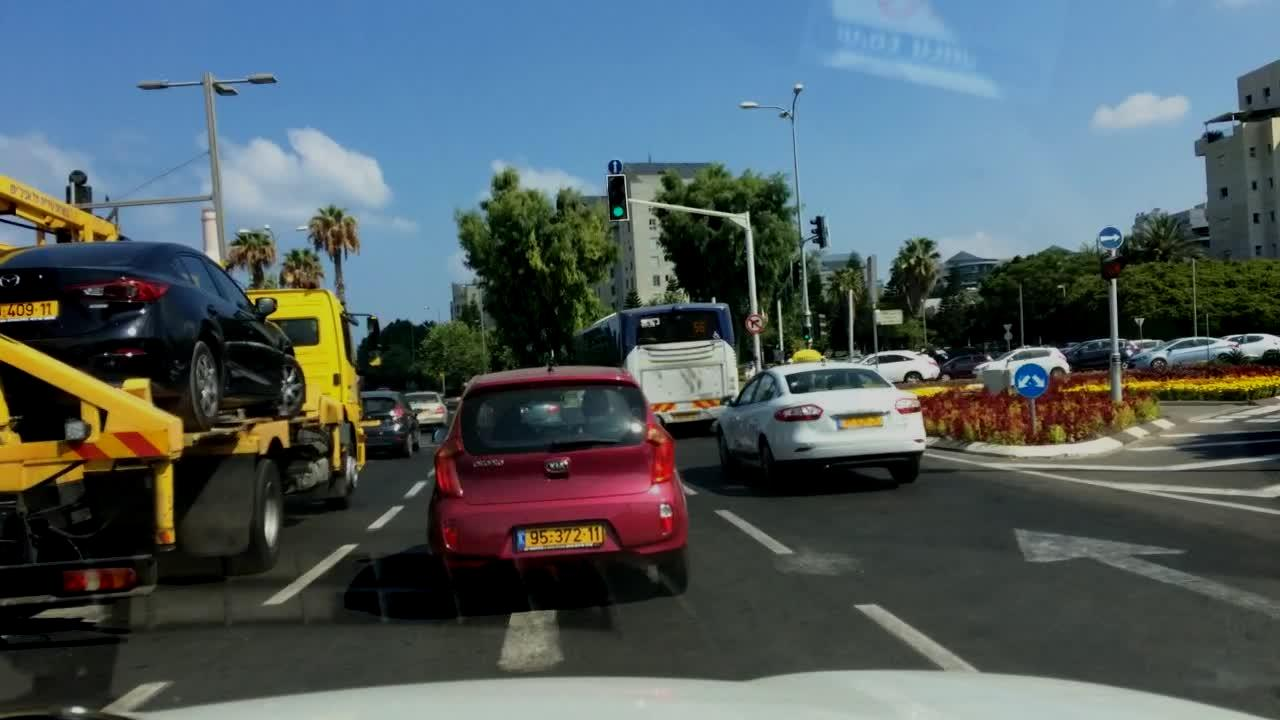Mazda: (0, 262, 27, 293)
kia: (539, 455, 580, 482)
